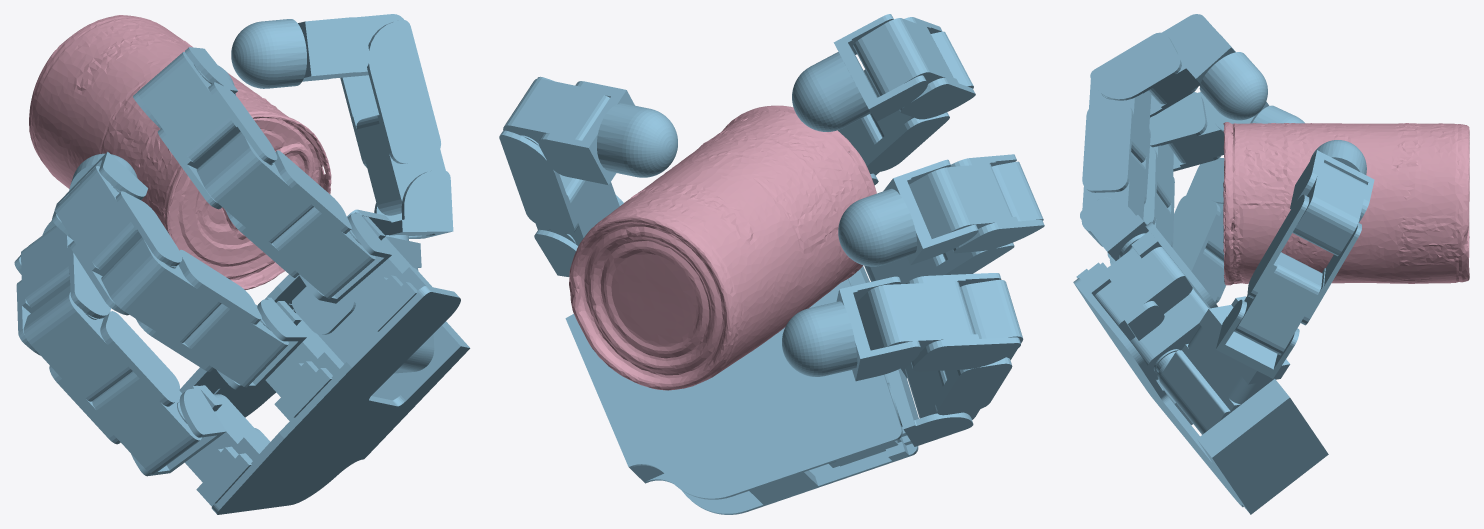
3 views of the same model, side by side, from view 1: azimuth 30°, elevation 25°; view 2: azimuth 150°, elevation 25°; view 3: azimuth 270°, elevation 25° (orthographic). The views are drawn at different scales.
Visible parts, largest first — view 1: world; view 2: world; view 3: world.
Part boxes in pixels (x1,y1,x2,y2): world: [14, 14, 470, 514]; world: [499, 14, 1044, 514]; world: [1073, 14, 1469, 514].
Size of the model in its own units: 0.1794 by 0.1965 by 0.1638.
